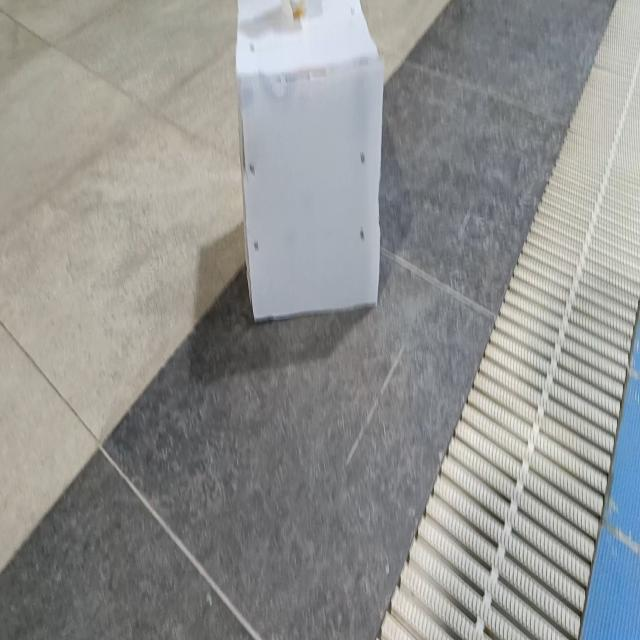Cube: (234, 0, 384, 324)
